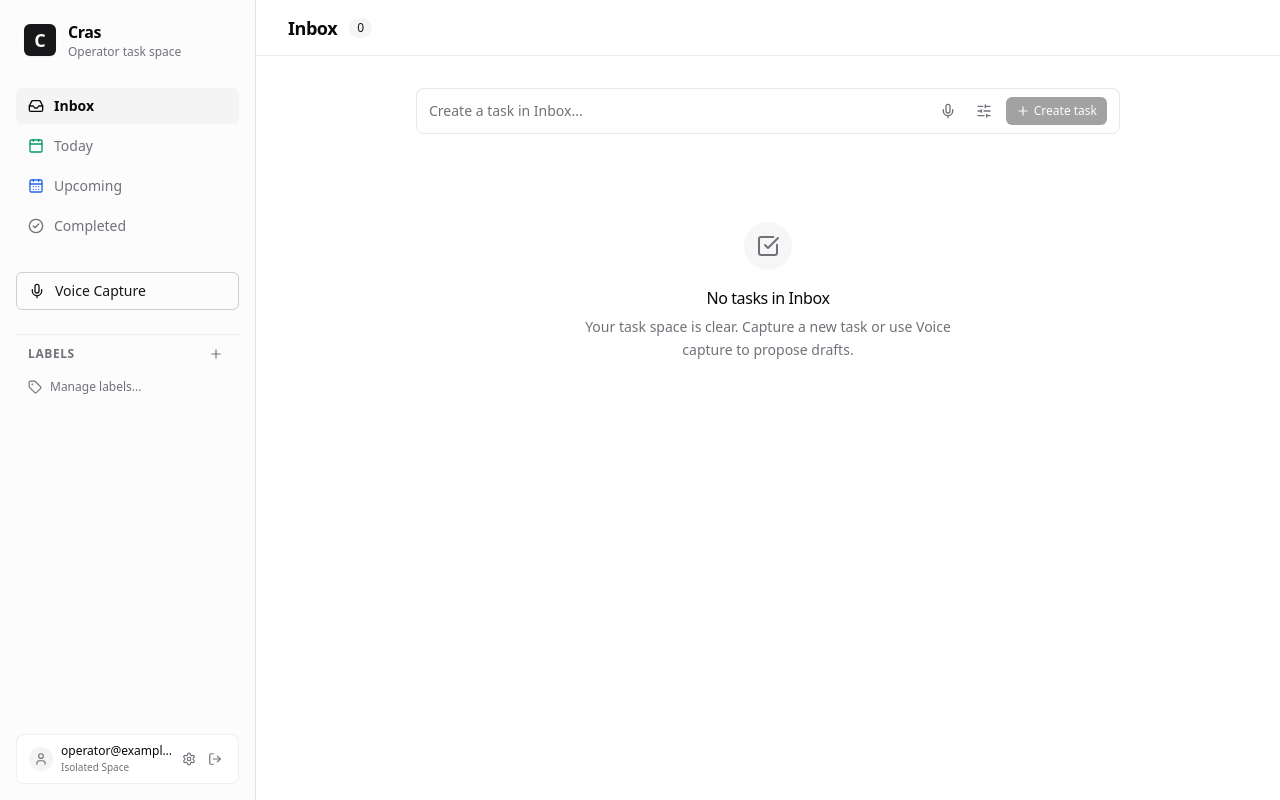
Test case: Web Offline Outbox Seam (Issue #51) › enters persistent Outbox before network acknowledgement for task create and complete
In the field with placeholder "Create a task in Inbox...": (677, 111) [429, 97, 926, 125], type "Task entering outbox"
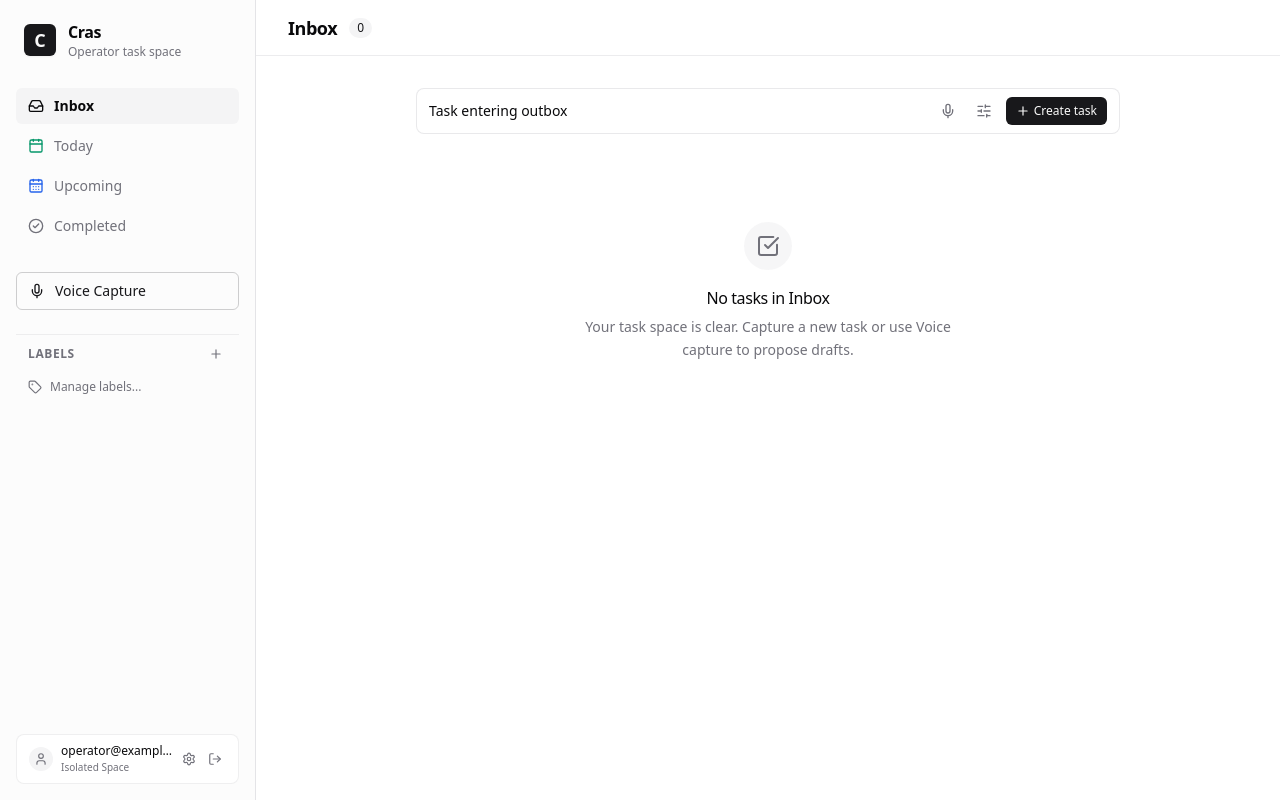
Submit the form with placeholder "create a task in inbox", box [416, 88, 1120, 134]
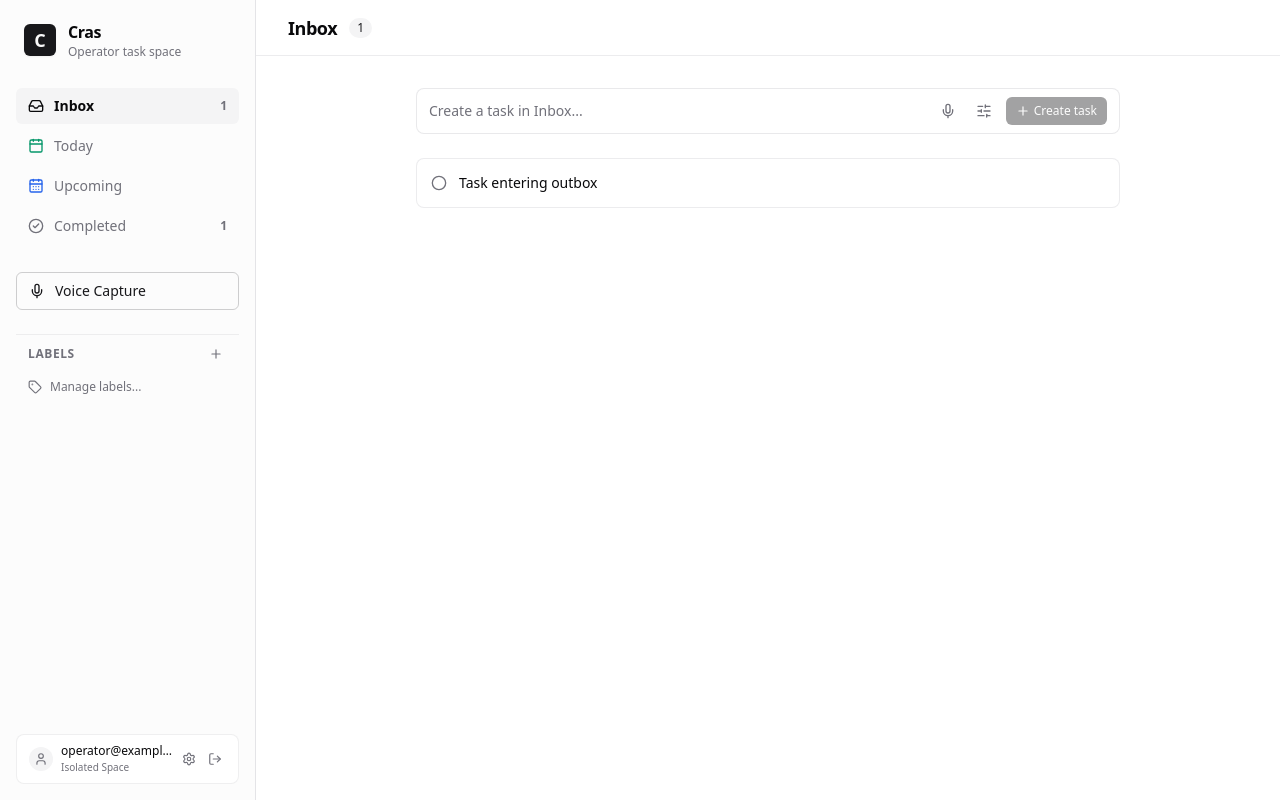
Now the text "Task entering outbox" is shown, box [459, 173, 598, 192]
